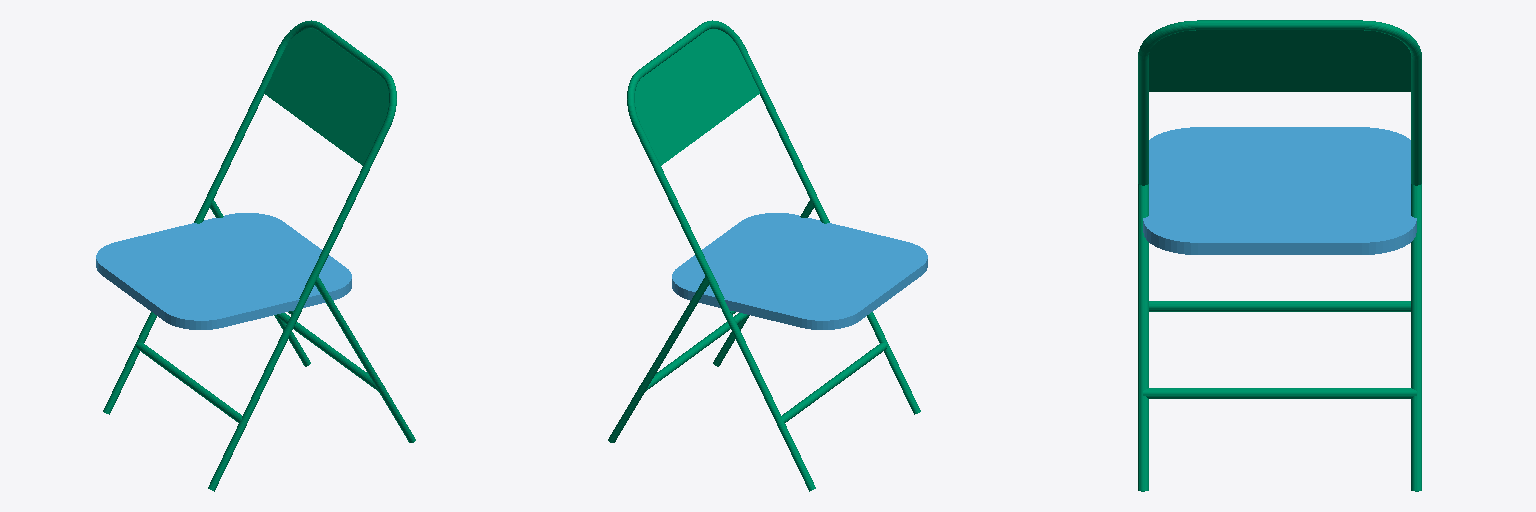
The robot description file, URDF, robot "partnet_4ae3ee61ebfd4d7bc05575120a46cd3b":
<?xml version="1.0" ?>
<robot name="partnet_4ae3ee61ebfd4d7bc05575120a46cd3b">
	<link name="base"/>
	<link name="link_0">
		<visual name="seat-1">
			<origin xyz="0 0.09 -0.06"/>
			<geometry>
				<mesh filename="textured_objs/original-3.obj"/>
			</geometry>
		</visual>
		<collision>
			<origin xyz="0 0.09 -0.06"/>
			<geometry>
				<mesh filename="textured_objs/original-3.obj"/>
			</geometry>
		</collision>
	</link>
	<joint name="joint_0" type="revolute">
		<origin xyz="0 -0.09 0.06"/>
		<axis xyz="-1 0 0"/>
		<child link="link_0"/>
		<parent link="link_1"/>
		<limit lower="-0.0" upper="2.086017521983622"/>
	</joint>
	<link name="link_1">
		<visual name="base_body-2">
			<origin xyz="0 0 0"/>
			<geometry>
				<mesh filename="textured_objs/original-4.obj"/>
			</geometry>
		</visual>
		<visual name="base_body-2">
			<origin xyz="0 0 0"/>
			<geometry>
				<mesh filename="textured_objs/original-2.obj"/>
			</geometry>
		</visual>
		<visual name="base_body-2">
			<origin xyz="0 0 0"/>
			<geometry>
				<mesh filename="textured_objs/original-5.obj"/>
			</geometry>
		</visual>
		<visual name="base_body-2">
			<origin xyz="0 0 0"/>
			<geometry>
				<mesh filename="textured_objs/original-6.obj"/>
			</geometry>
		</visual>
		<visual name="base_body-2">
			<origin xyz="0 0 0"/>
			<geometry>
				<mesh filename="textured_objs/original-7.obj"/>
			</geometry>
		</visual>
		<visual name="base_body-2">
			<origin xyz="0 0 0"/>
			<geometry>
				<mesh filename="textured_objs/original-1.obj"/>
			</geometry>
		</visual>
		<collision>
			<origin xyz="0 0 0"/>
			<geometry>
				<mesh filename="textured_objs/original-4.obj"/>
			</geometry>
		</collision>
		<collision>
			<origin xyz="0 0 0"/>
			<geometry>
				<mesh filename="textured_objs/original-2.obj"/>
			</geometry>
		</collision>
		<collision>
			<origin xyz="0 0 0"/>
			<geometry>
				<mesh filename="textured_objs/original-5.obj"/>
			</geometry>
		</collision>
		<collision>
			<origin xyz="0 0 0"/>
			<geometry>
				<mesh filename="textured_objs/original-6.obj"/>
			</geometry>
		</collision>
		<collision>
			<origin xyz="0 0 0"/>
			<geometry>
				<mesh filename="textured_objs/original-7.obj"/>
			</geometry>
		</collision>
		<collision>
			<origin xyz="0 0 0"/>
			<geometry>
				<mesh filename="textured_objs/original-1.obj"/>
			</geometry>
		</collision>
	</link>
	<joint name="joint_1" type="fixed">
		<origin rpy="1.570796326794897 0 -1.570796326794897" xyz="0 0 0"/>
		<child link="link_1"/>
		<parent link="base"/>
	</joint>
</robot>

--- Render facts (derived) ---
3 views of the same robot in one strip: view 1: azimuth 30°, elevation 25°; view 2: azimuth 150°, elevation 25°; view 3: azimuth 270°, elevation 25° (orthographic).
Model partnet_4ae3ee61ebfd4d7bc05575120a46cd3b with 3 links and 2 joints (1 revolute, 1 fixed), rooted at base, posed all joints at 0.
Links seen in each view (by area): view 1: link_1, link_0; view 2: link_1, link_0; view 3: link_1, link_0.
Link boxes in pixels (bbox=[...]): link_1: bbox=[103, 20, 415, 491]; link_0: bbox=[96, 213, 351, 329]; link_1: bbox=[608, 20, 920, 491]; link_0: bbox=[672, 213, 927, 329]; link_1: bbox=[1138, 20, 1421, 491]; link_0: bbox=[1143, 127, 1416, 254].
Bounding box of the posed robot: 1.06 × 0.8768 × 1.59 m (x, y, z).
7 mesh visuals loaded from 7 distinct referenced files (7 OBJ).
